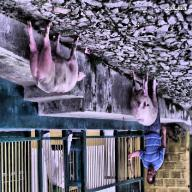boar: (27, 19, 87, 94), (130, 70, 158, 127)
